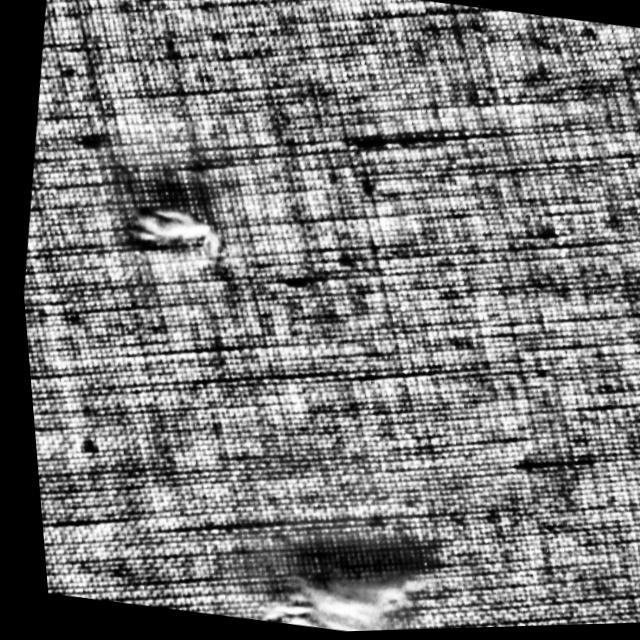Stitch: (239, 541, 419, 635), (110, 192, 230, 278)
